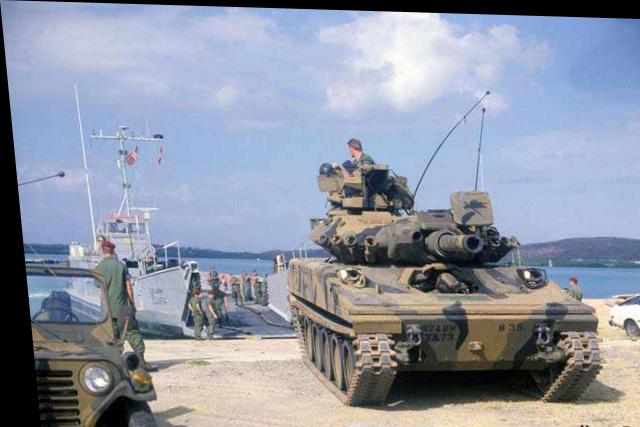other: (78, 227, 131, 371), (335, 127, 375, 168)
tank: (270, 184, 611, 411)
